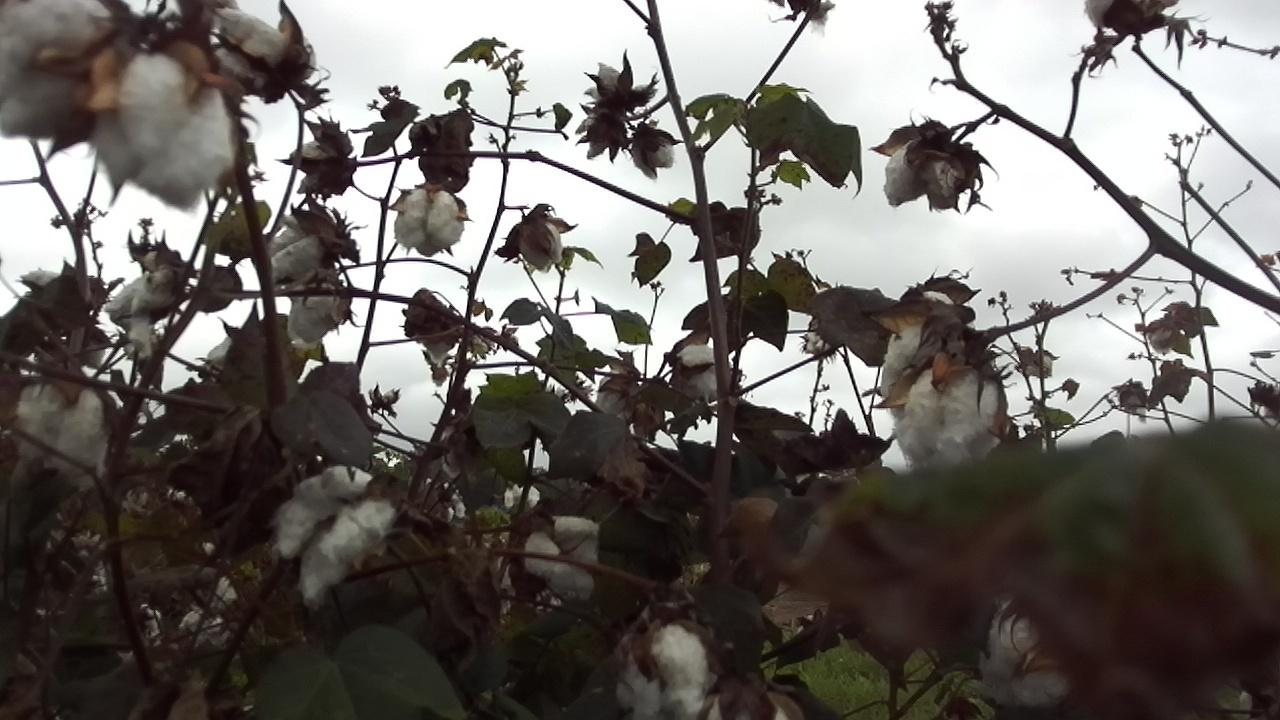cotton_ready: (0, 0, 238, 217), (881, 320, 1010, 470), (270, 464, 399, 610), (979, 595, 1075, 720), (8, 379, 114, 491), (213, 0, 316, 105), (609, 624, 711, 720), (519, 514, 605, 603), (109, 270, 183, 360), (882, 136, 966, 210), (497, 202, 580, 271), (394, 186, 465, 254), (267, 213, 331, 288), (582, 58, 658, 114), (292, 279, 347, 343), (578, 104, 631, 164), (630, 118, 676, 185), (679, 340, 721, 408)
